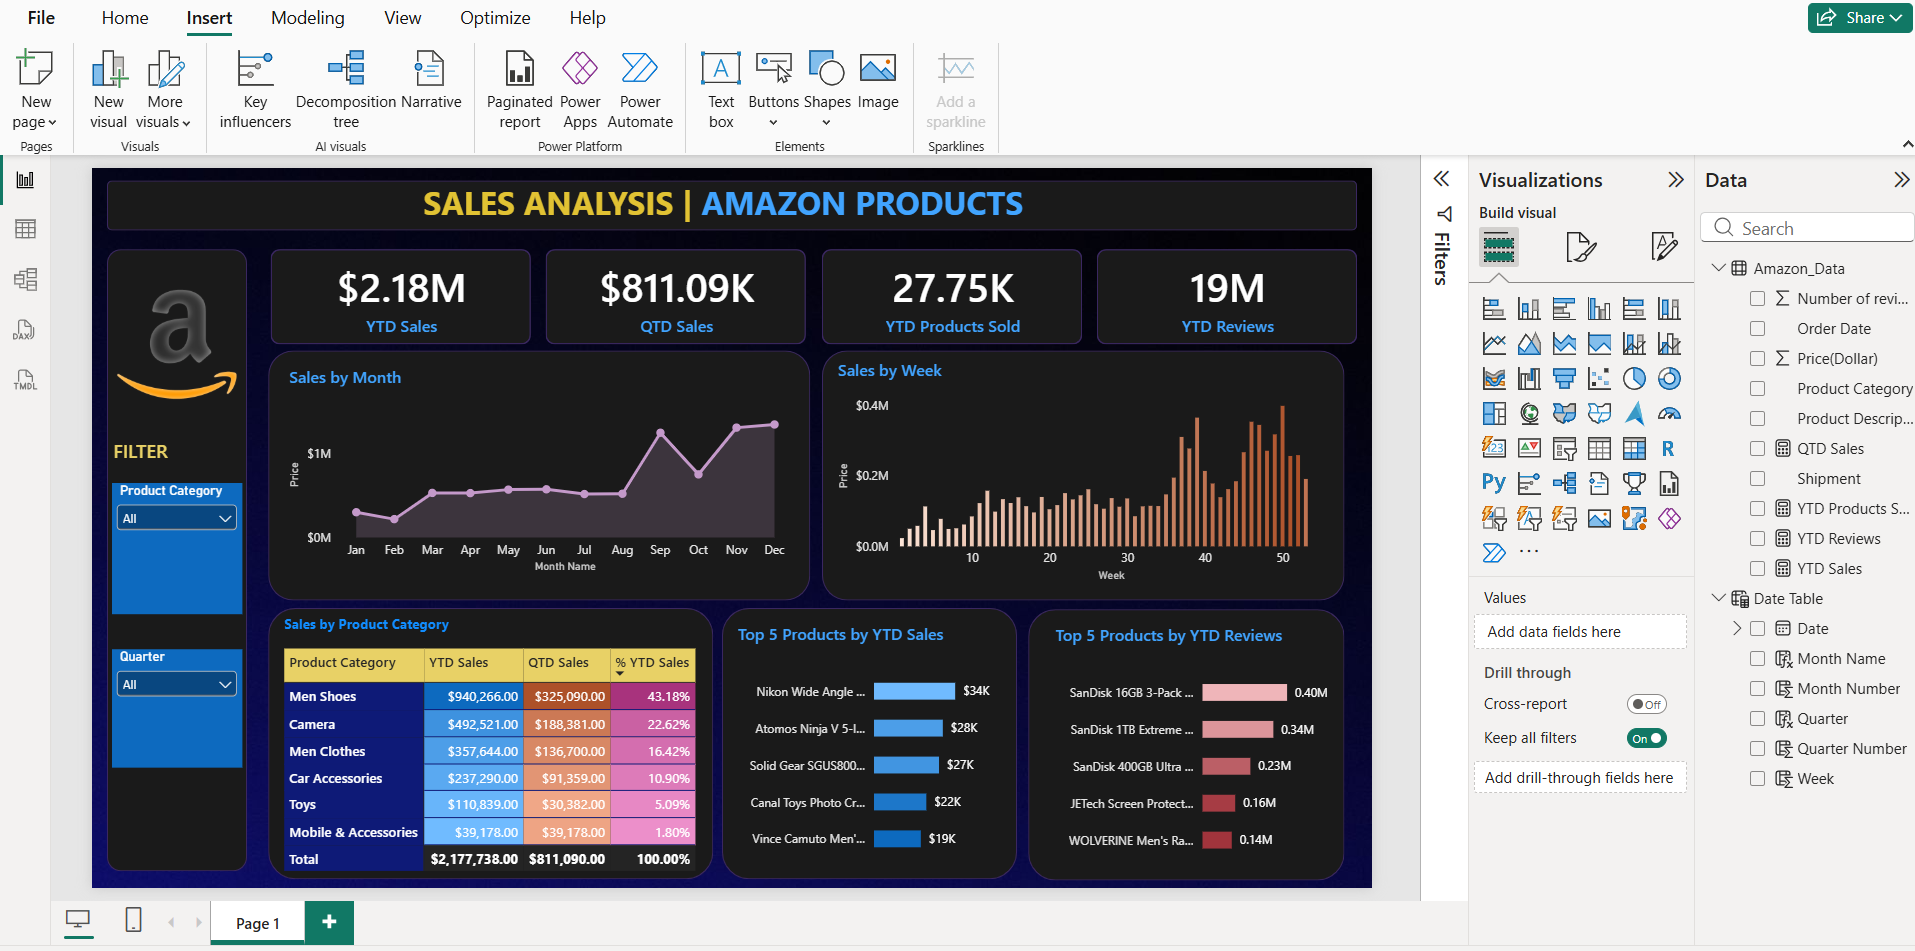

This screenshot's page, from the dashboard's own definition file:
{"tool":"powerbi","page":{"name":"Page 1","canvas":[1280,720],"ordinal":0},"visuals":[{"type":"shape","box":[15,12.5,1250,50],"z":0},{"type":"shape","box":[1005,81.2,260,95],"z":0,"group":"g1"},{"type":"textbox","box":[331.2,12.5,616.2,53.8],"z":1000},{"type":"shape","box":[729.6,81.2,260,95],"z":1000,"group":"g1"},{"type":"shape","box":[15,81.2,140,622],"z":2000},{"type":"shape","box":[176.2,182.5,542,250],"z":3000},{"type":"group","id":"g1","title":"Group 1","box":[178.8,81.2,1086.2,95],"z":4000},{"type":"shape","box":[178.8,81.2,260,95],"z":5000,"group":"g1"},{"type":"areaChart","title":"Sales by Month","fields":{"Category":["Date Table.Month Name"],"Y":["Sum(Amazon_Data.Price(Dollar))"]},"box":[181.2,182.5,532.5,237.5],"z":5000},{"type":"cardVisual","fields":{"Data":["Amazon_Data.YTD Sales"]},"box":[178.8,81.2,260,95],"z":6000,"group":"g1"},{"type":"shape","box":[730,182.5,522.5,250],"z":6000},{"type":"cardVisual","fields":{"Data":["Amazon_Data.YTD Products Sold"]},"box":[730,81.2,260,95],"z":7000,"group":"g1"},{"type":"shape","box":[176.2,440,445,271.2],"z":7000},{"type":"shape","box":[454.2,81.2,260,95],"z":8000,"group":"g1"},{"type":"columnChart","title":"Sales by Week","fields":{"Category":["Date Table.Week"],"Y":["Sum(Amazon_Data.Price(Dollar))"]},"box":[730,176.2,522.5,252.5],"z":8000},{"type":"cardVisual","fields":{"Data":["Amazon_Data.YTD Reviews"]},"box":[1005,81.2,260,95],"z":9000,"group":"g1"},{"type":"pivotTable","title":"Sales by Product Category","fields":{"Rows":["Amazon_Data.Product Category"],"Values":["Amazon_Data.YTD Sales1","Amazon_Data.QTD Sales","Amazon_Data.YTD Sales"]},"box":[176.2,432.5,445,287.5],"z":9000},{"type":"cardVisual","fields":{"Data":["Amazon_Data.QTD Sales"]},"box":[453.8,81.2,260,95],"z":10000,"group":"g1"},{"type":"shape","box":[630,440,295,271.2],"z":10000},{"type":"shape","box":[936.2,441.2,316.2,271.2],"z":11000},{"type":"clusteredBarChart","title":"Top 5 Products by YTD Sales","fields":{"Category":["Amazon_Data.Product Description"],"Y":["Amazon_Data.YTD Sales"]},"box":[630,440,283.8,271.2],"z":12000},{"type":"clusteredBarChart","title":"Top 5 Products by YTD Reviews","fields":{"Category":["Amazon_Data.Product Description"],"Y":["Amazon_Data.YTD Reviews"]},"box":[947.5,441.2,305,271.2],"z":13000},{"type":"slicer","fields":{"Values":["Amazon_Data.Product Category"]},"box":[20,315,130,131.2],"z":13001},{"type":"slicer","fields":{"Values":["Date Table.Quarter"]},"box":[20,481.2,130,118.8],"z":13002},{"type":"textbox","box":[21.2,270,78.8,32.5],"z":13003},{"type":"image","box":[21.2,107.5,127.5,137.5],"z":13004}]}

Visuals, with their boxes on the page's 1280x720 design canvas (x1, y1, x2, y2). These are canvas units, not pixel positions in the 1915x951 screenshot, which may show the page scaled, cropped or inside an application window:
shape: <box>15,12,1265,62</box>
shape: <box>1005,81,1265,176</box>
textbox: <box>331,12,947,66</box>
shape: <box>730,81,990,176</box>
shape: <box>15,81,155,703</box>
shape: <box>176,182,718,432</box>
"Group 1" group: <box>179,81,1265,176</box>
shape: <box>179,81,439,176</box>
"Sales by Month" areaChart: <box>181,182,714,420</box>
cardVisual - Amazon_Data.YTD Sales: <box>179,81,439,176</box>
shape: <box>730,182,1252,432</box>
cardVisual - Amazon_Data.YTD Products Sold: <box>730,81,990,176</box>
shape: <box>176,440,621,711</box>
shape: <box>454,81,714,176</box>
"Sales by Week" columnChart: <box>730,176,1252,429</box>
cardVisual - Amazon_Data.YTD Reviews: <box>1005,81,1265,176</box>
"Sales by Product Category" pivotTable: <box>176,432,621,720</box>
cardVisual - Amazon_Data.QTD Sales: <box>454,81,714,176</box>
shape: <box>630,440,925,711</box>
shape: <box>936,441,1252,712</box>
"Top 5 Products by YTD Sales" clusteredBarChart: <box>630,440,914,711</box>
"Top 5 Products by YTD Reviews" clusteredBarChart: <box>948,441,1252,712</box>
slicer - Amazon_Data.Product Category: <box>20,315,150,446</box>
slicer - Date Table.Quarter: <box>20,481,150,600</box>
textbox: <box>21,270,100,302</box>
image: <box>21,108,149,245</box>
